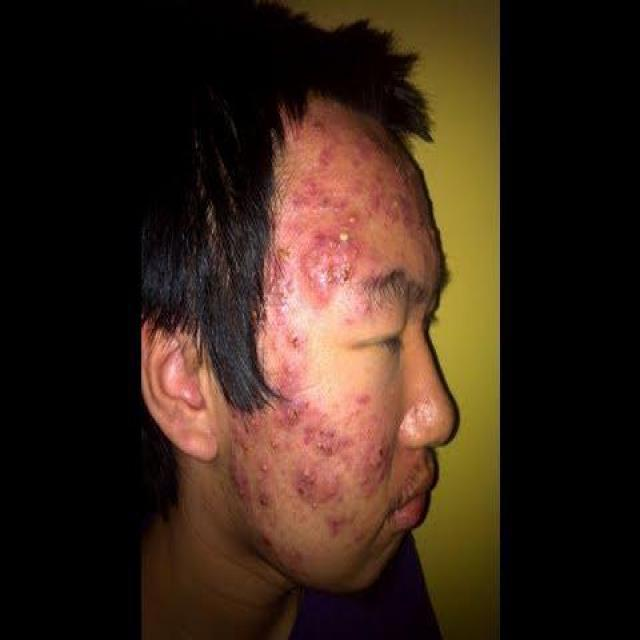Acne: (282, 122, 438, 218), (280, 316, 338, 508), (271, 218, 357, 316), (339, 391, 389, 493), (238, 408, 276, 522), (331, 520, 378, 548), (282, 541, 314, 577)
